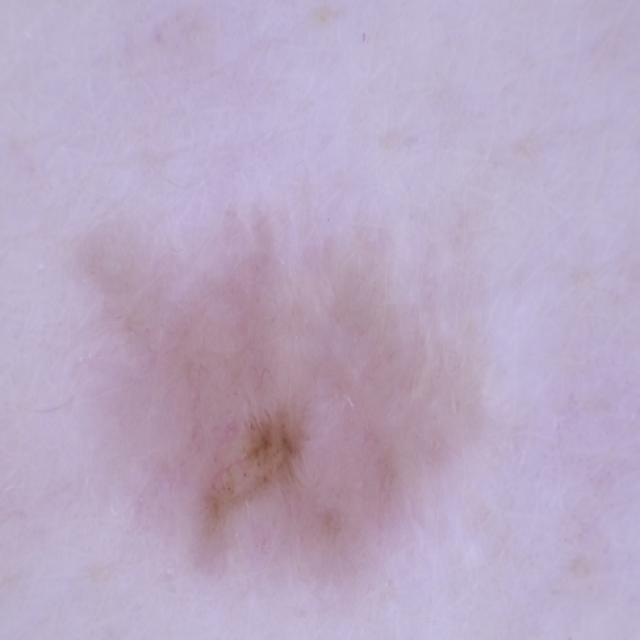Carcinoma: (91, 144, 439, 640)
